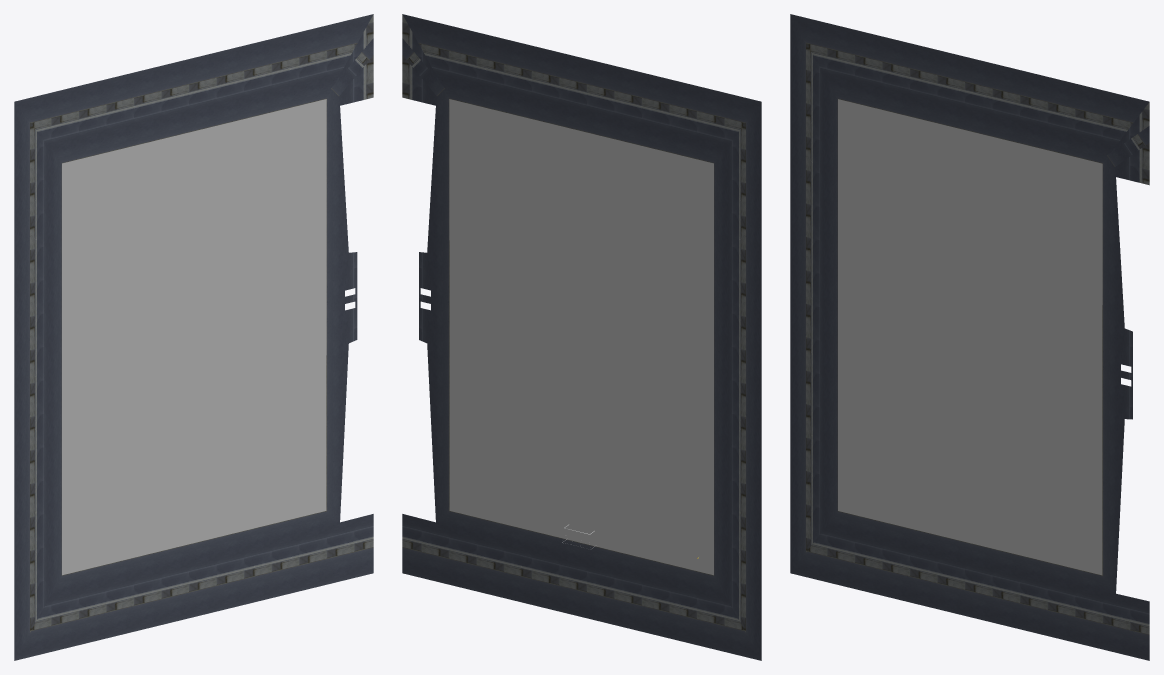
Rendered from CampoBase.FBX.
3 renders of one model, left to right at view 1: azimuth 30°, elevation 25°; view 2: azimuth 150°, elevation 25°; view 3: azimuth 330°, elevation 25°, orthographic.
Visible parts, largest first — view 1: Cesped; view 2: Cesped; view 3: Cesped.
Part boxes in pixels (<box>): Cesped: <box>14,14,373,660</box>; Cesped: <box>402,14,761,660</box>; Cesped: <box>790,14,1149,660</box>.
Bounding box in the file's own units: 4084 × 6072 × 116.
